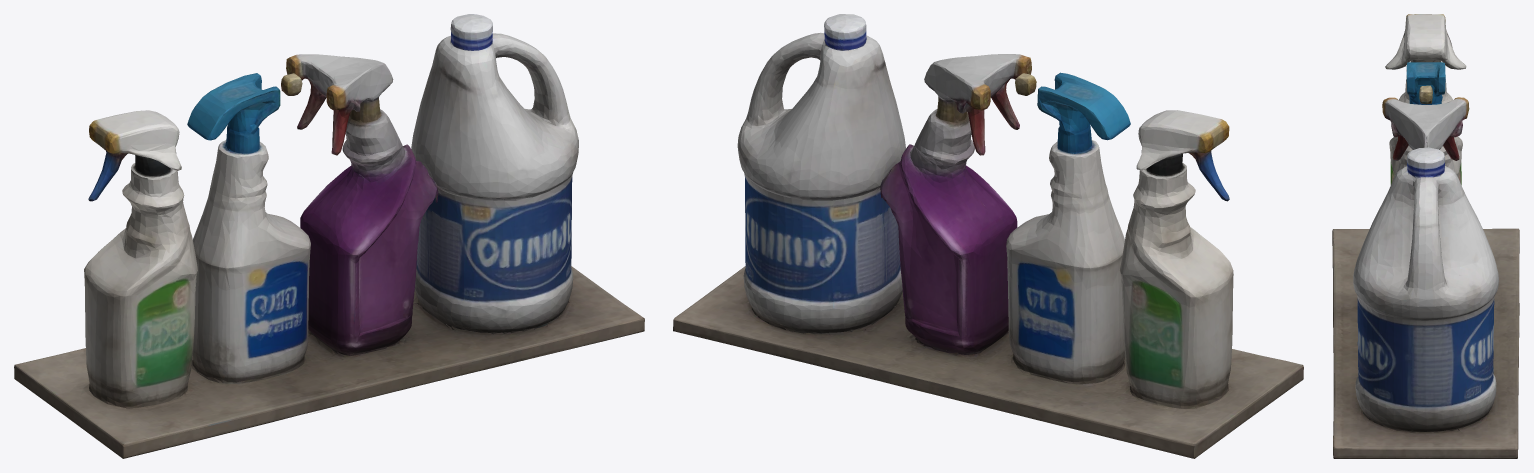
Rendered from cleaner_shelf.glb.
3 renders of one model, left to right at view 1: azimuth 30°, elevation 25°; view 2: azimuth 150°, elevation 25°; view 3: azimuth 270°, elevation 25°, orthographic. The views are drawn at different scales.
Visible parts, largest first — view 1: geometry_0; view 2: geometry_0; view 3: geometry_0.
Part boxes in pixels (x1,y1,x2,y2): geometry_0: (14, 14, 644, 458); geometry_0: (673, 14, 1303, 458); geometry_0: (1332, 14, 1519, 458).
Bounding box in the file's own units: 1 × 0.5509 × 0.363.
Materials: 1 (1 with a texture image).
